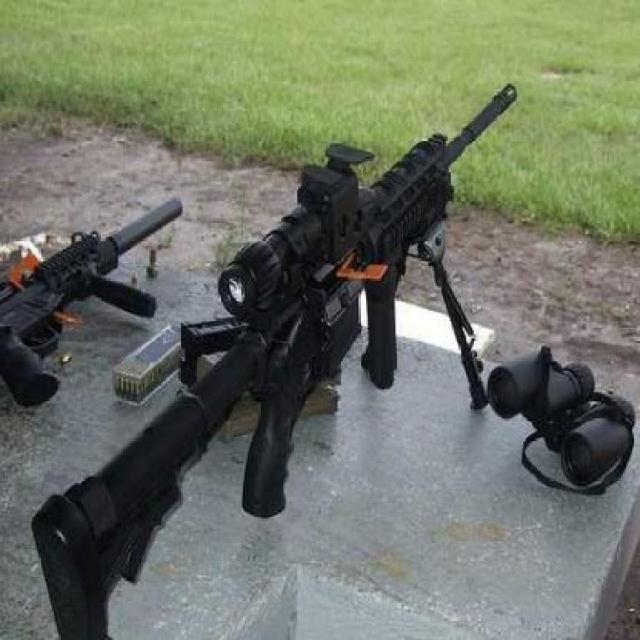weapon: (31, 82, 518, 640), (0, 196, 185, 407)
